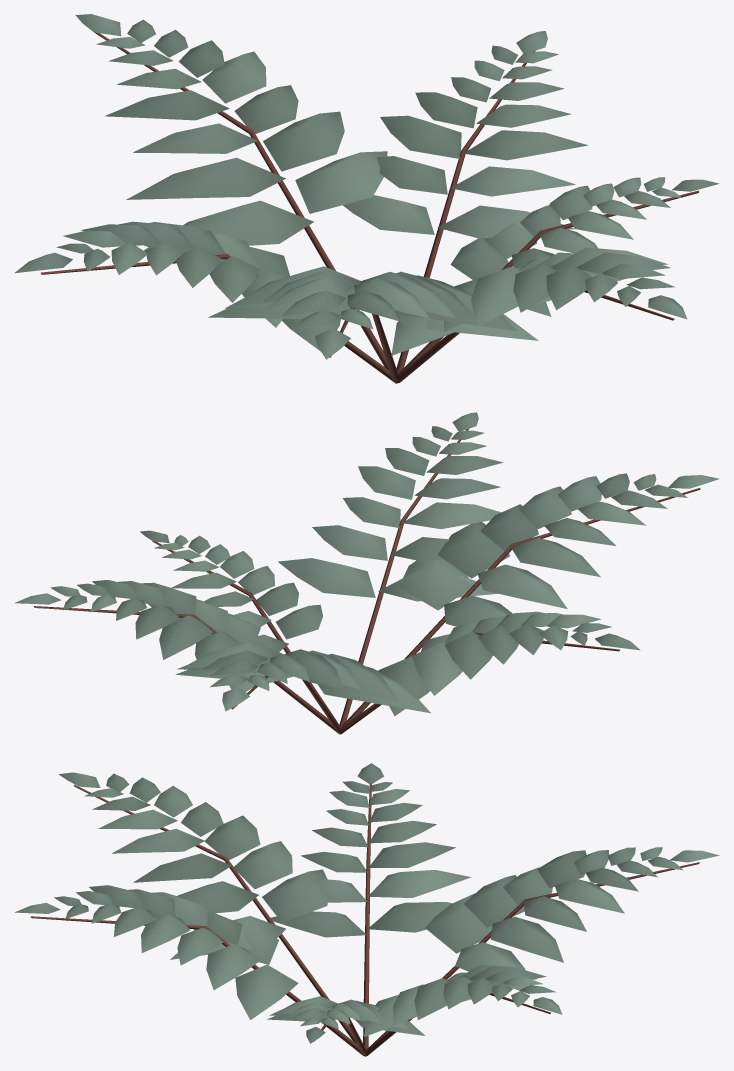
The model's file is painted_fern.glb.
3 renders of one model, top to bottom at view 1: azimuth 30°, elevation 25°; view 2: azimuth 150°, elevation 25°; view 3: azimuth 270°, elevation 25°, orthographic. The views are drawn at different scales.
Visible parts, largest first — view 1: painted_fern; view 2: painted_fern; view 3: painted_fern.
Part boxes in pixels (x1,y1,x2,y2): painted_fern: [14, 14, 719, 383]; painted_fern: [14, 412, 719, 734]; painted_fern: [14, 763, 719, 1056].
Size of the model in its own units: 0.7671 by 0.2754 by 0.9238.
